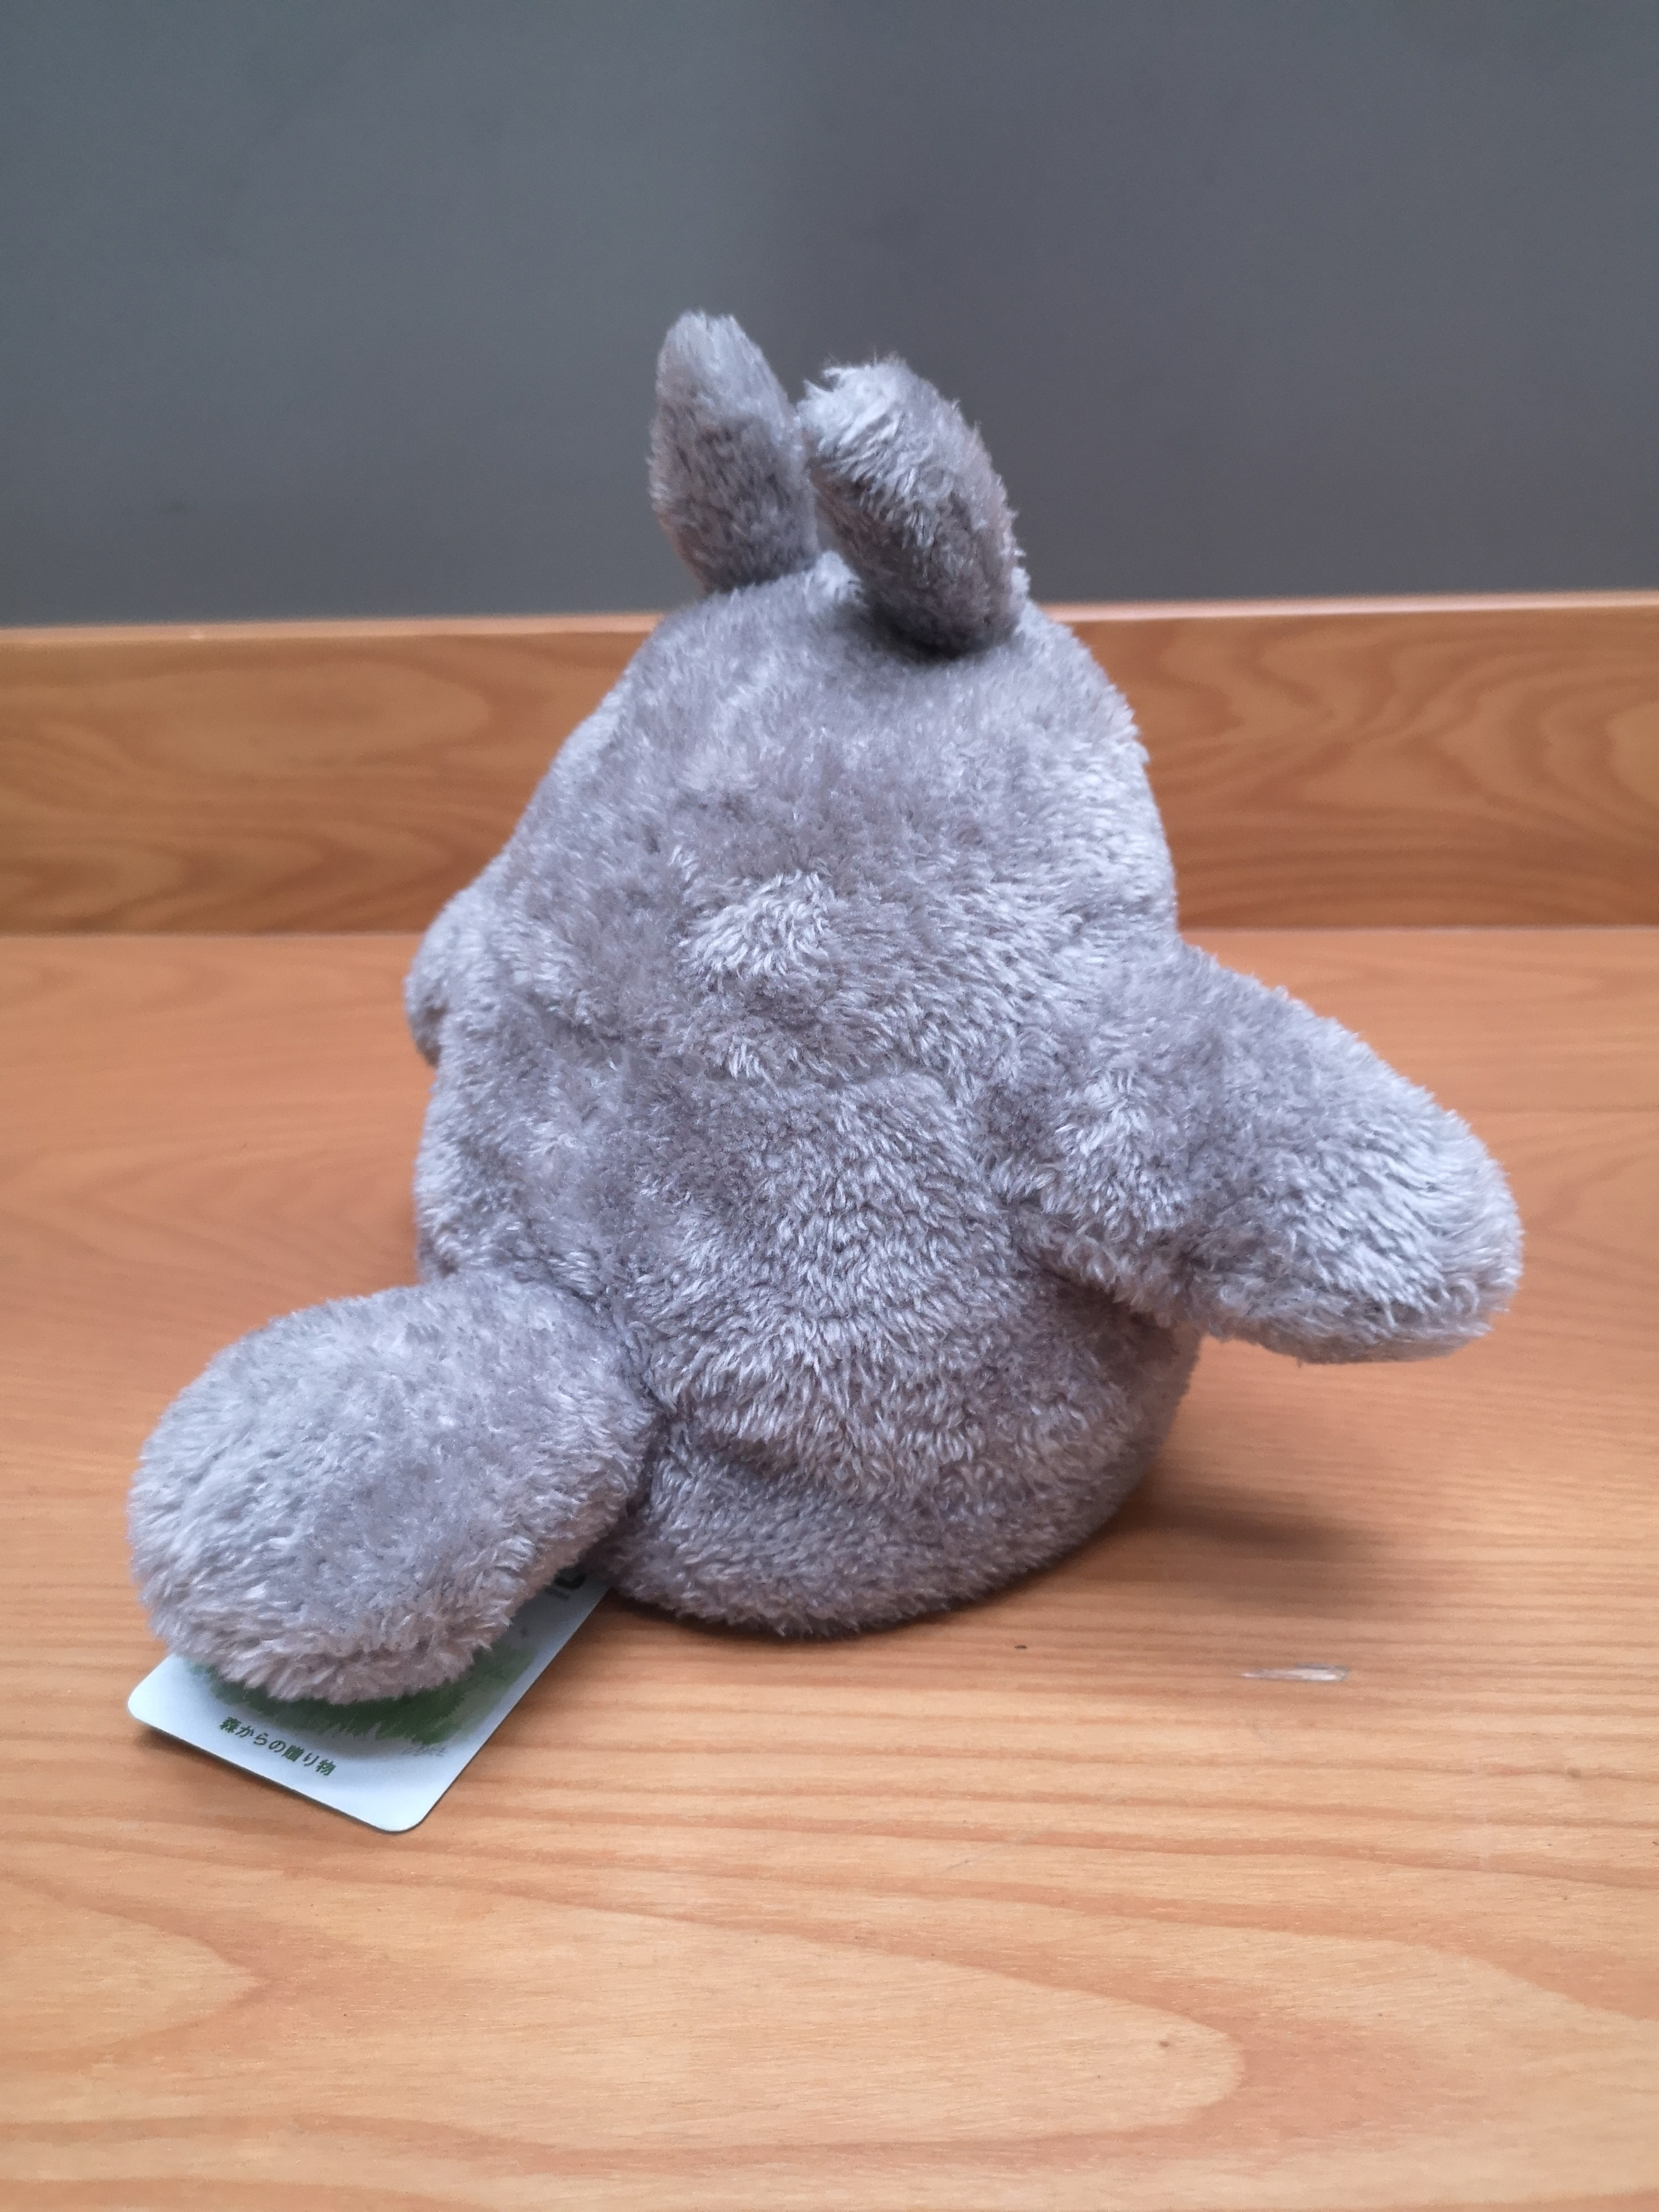totoro: (112, 284, 1528, 1869)
